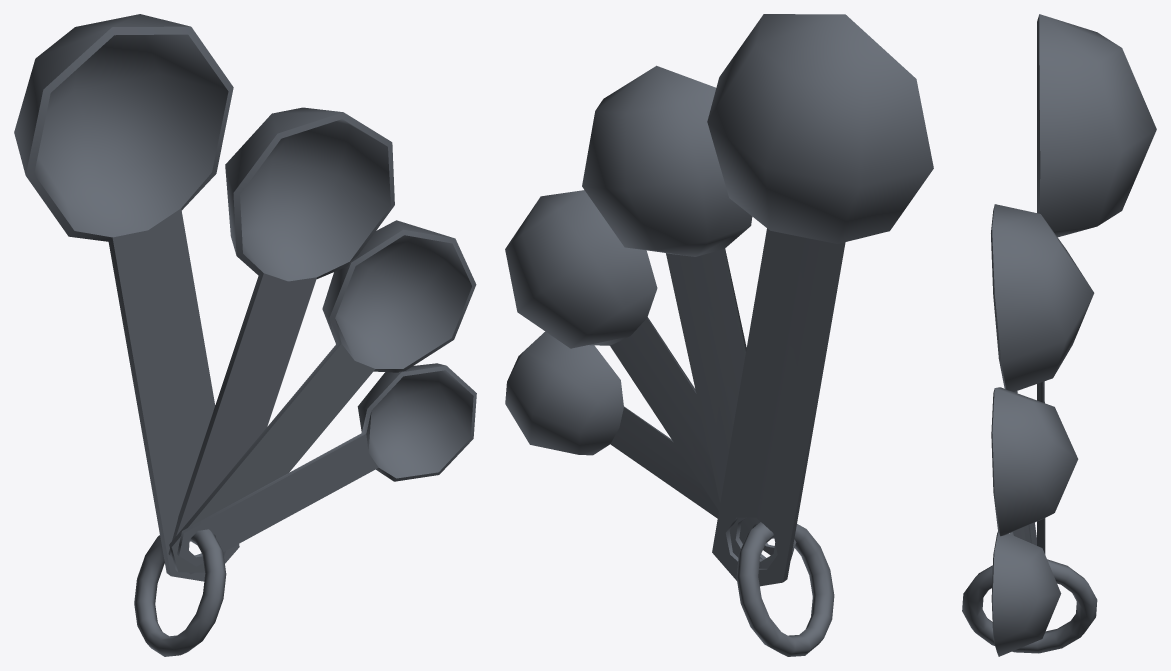
File: Measuring Spoon-jswx1SrKlY.glb
The picture shows the model from 3 angles, left to right: view 1: azimuth 30°, elevation 25°; view 2: azimuth 150°, elevation 25°; view 3: azimuth 270°, elevation 25°; orthographic projection. The views are drawn at different scales.
Parts seen in each view (by area): view 1: mspoon_measuring_spoon_stack_medium_w/ring_Sphere.008; view 2: mspoon_measuring_spoon_stack_medium_w/ring_Sphere.008; view 3: mspoon_measuring_spoon_stack_medium_w/ring_Sphere.008.
Part boxes in pixels (bbox=[...]): mspoon_measuring_spoon_stack_medium_w/ring_Sphere.008: bbox=[14, 14, 476, 656]; mspoon_measuring_spoon_stack_medium_w/ring_Sphere.008: bbox=[505, 14, 933, 656]; mspoon_measuring_spoon_stack_medium_w/ring_Sphere.008: bbox=[962, 14, 1156, 656].
Bounding box in the file's own units: 1.37 × 1.93 × 0.5507.
1 material, 1 textured.
